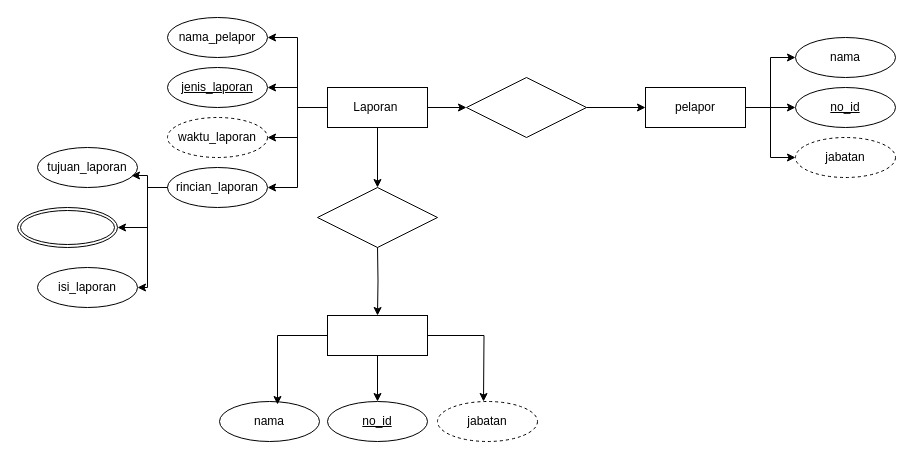
This 913x459 diagram has some shape labels left out. The box of each missing label's shape, as (x1, y1, x2, y2) in pixels:
menerima: (316, 186, 438, 248)
menulis: (466, 76, 586, 138)
no_laporan: (16, 206, 118, 248)
penerima: (326, 314, 428, 356)
